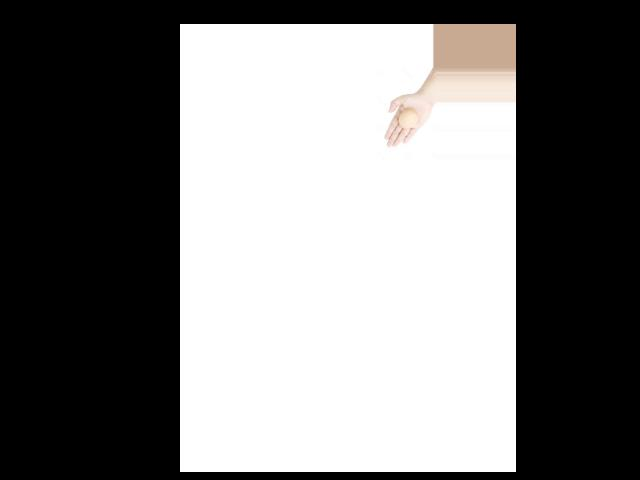egg: (399, 108, 418, 128)
